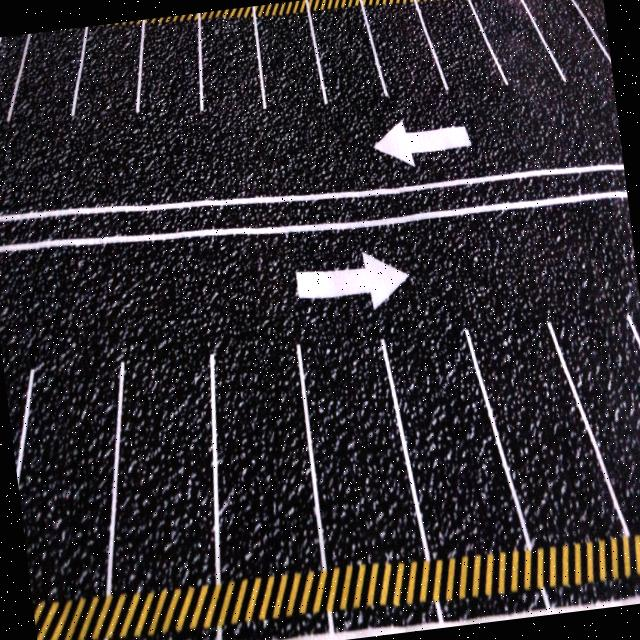slots: (386, 300, 522, 557), (471, 303, 619, 539), (303, 310, 420, 564), (17, 330, 119, 597), (215, 321, 320, 577), (113, 332, 213, 590), (559, 298, 640, 532), (312, 5, 384, 132), (365, 3, 442, 113), (473, 0, 560, 91), (421, 0, 501, 94), (524, 0, 612, 81), (140, 22, 198, 142), (15, 27, 86, 125), (74, 25, 140, 118), (258, 14, 322, 108), (203, 18, 262, 113)
